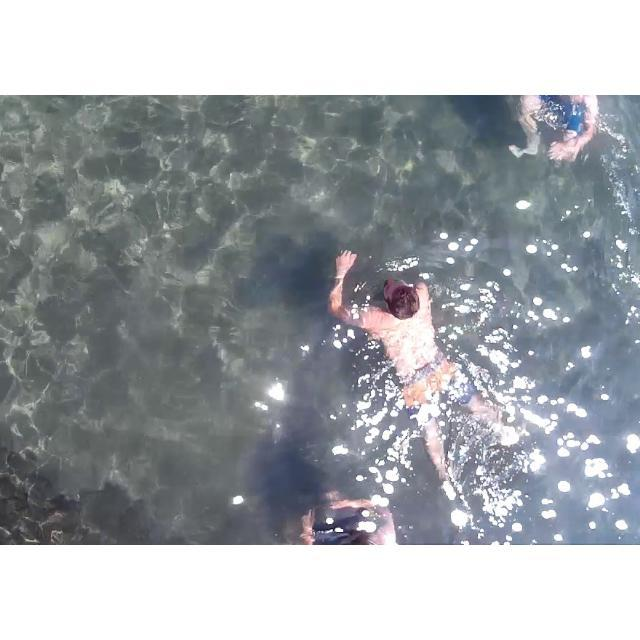human: (317, 223, 485, 460), (480, 95, 608, 186)
